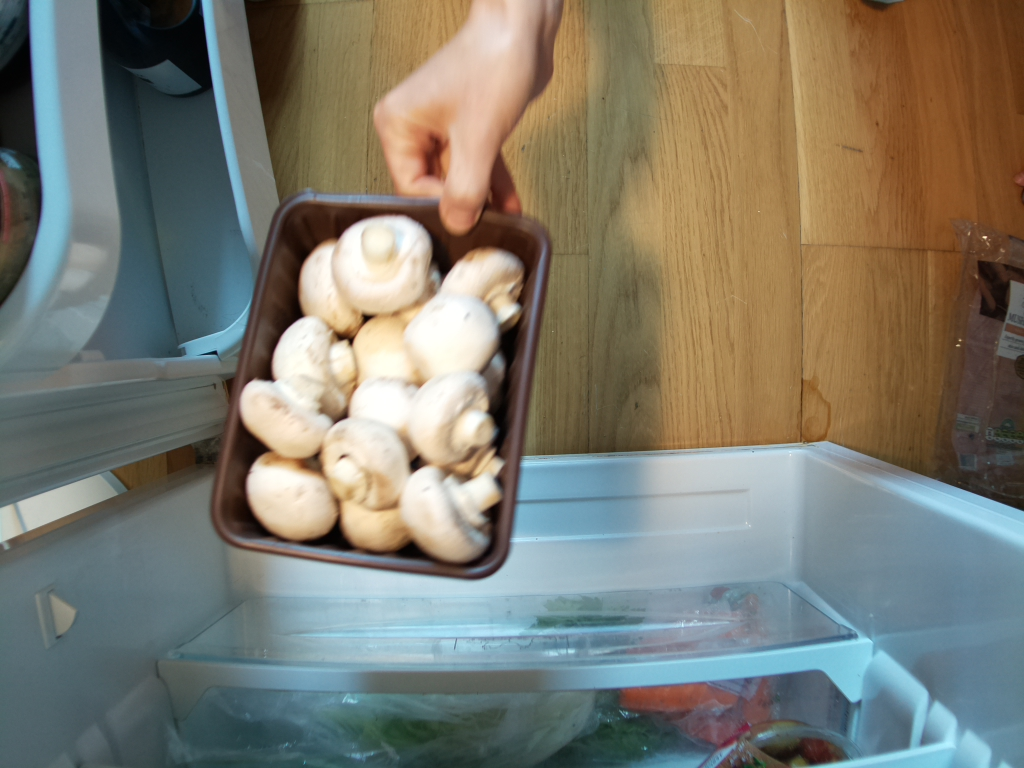mushrooms: (201, 186, 555, 583)
